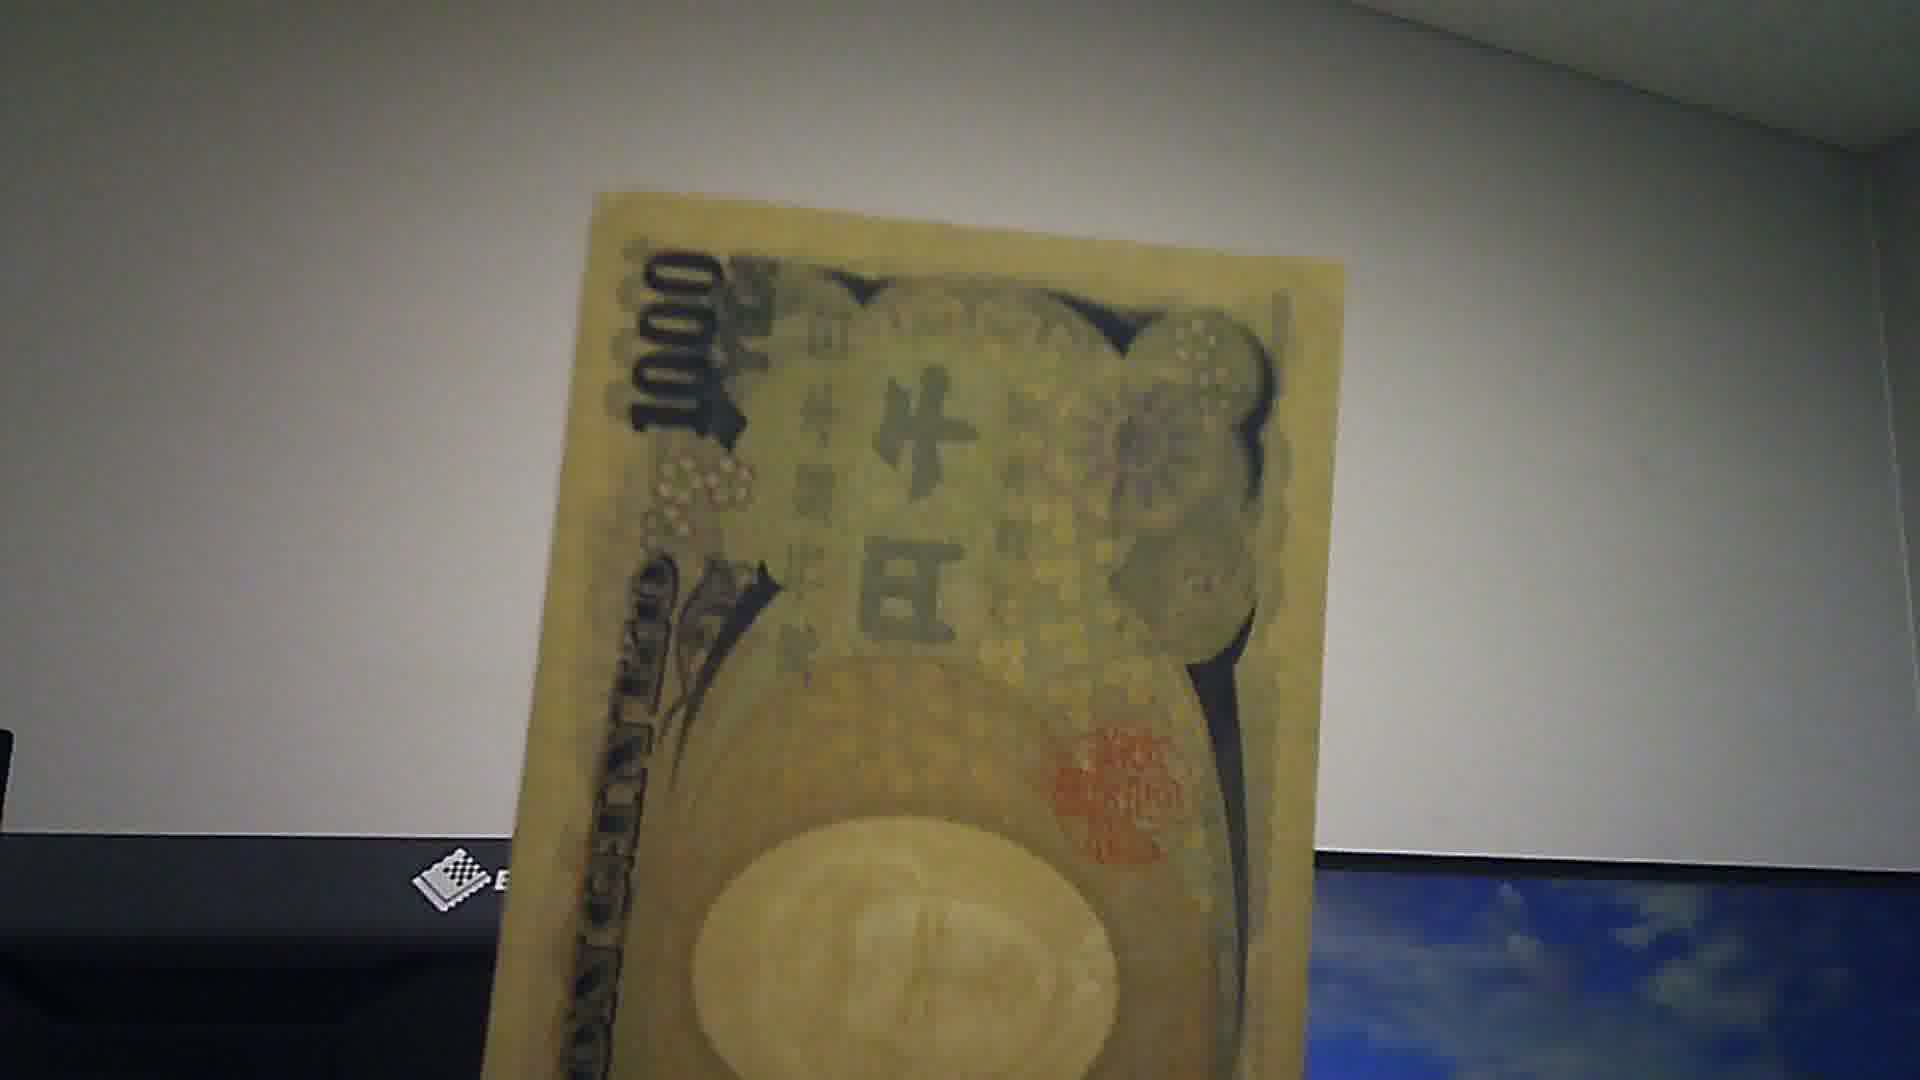1,000 Yen: (487, 178, 1345, 1079)
